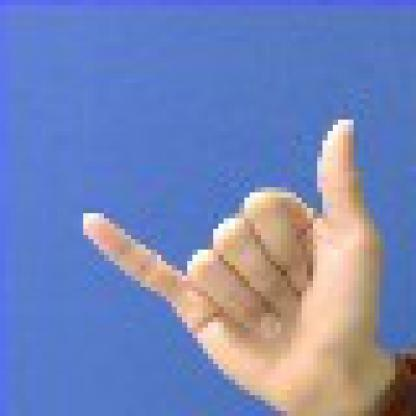six: (67, 83, 410, 411)
